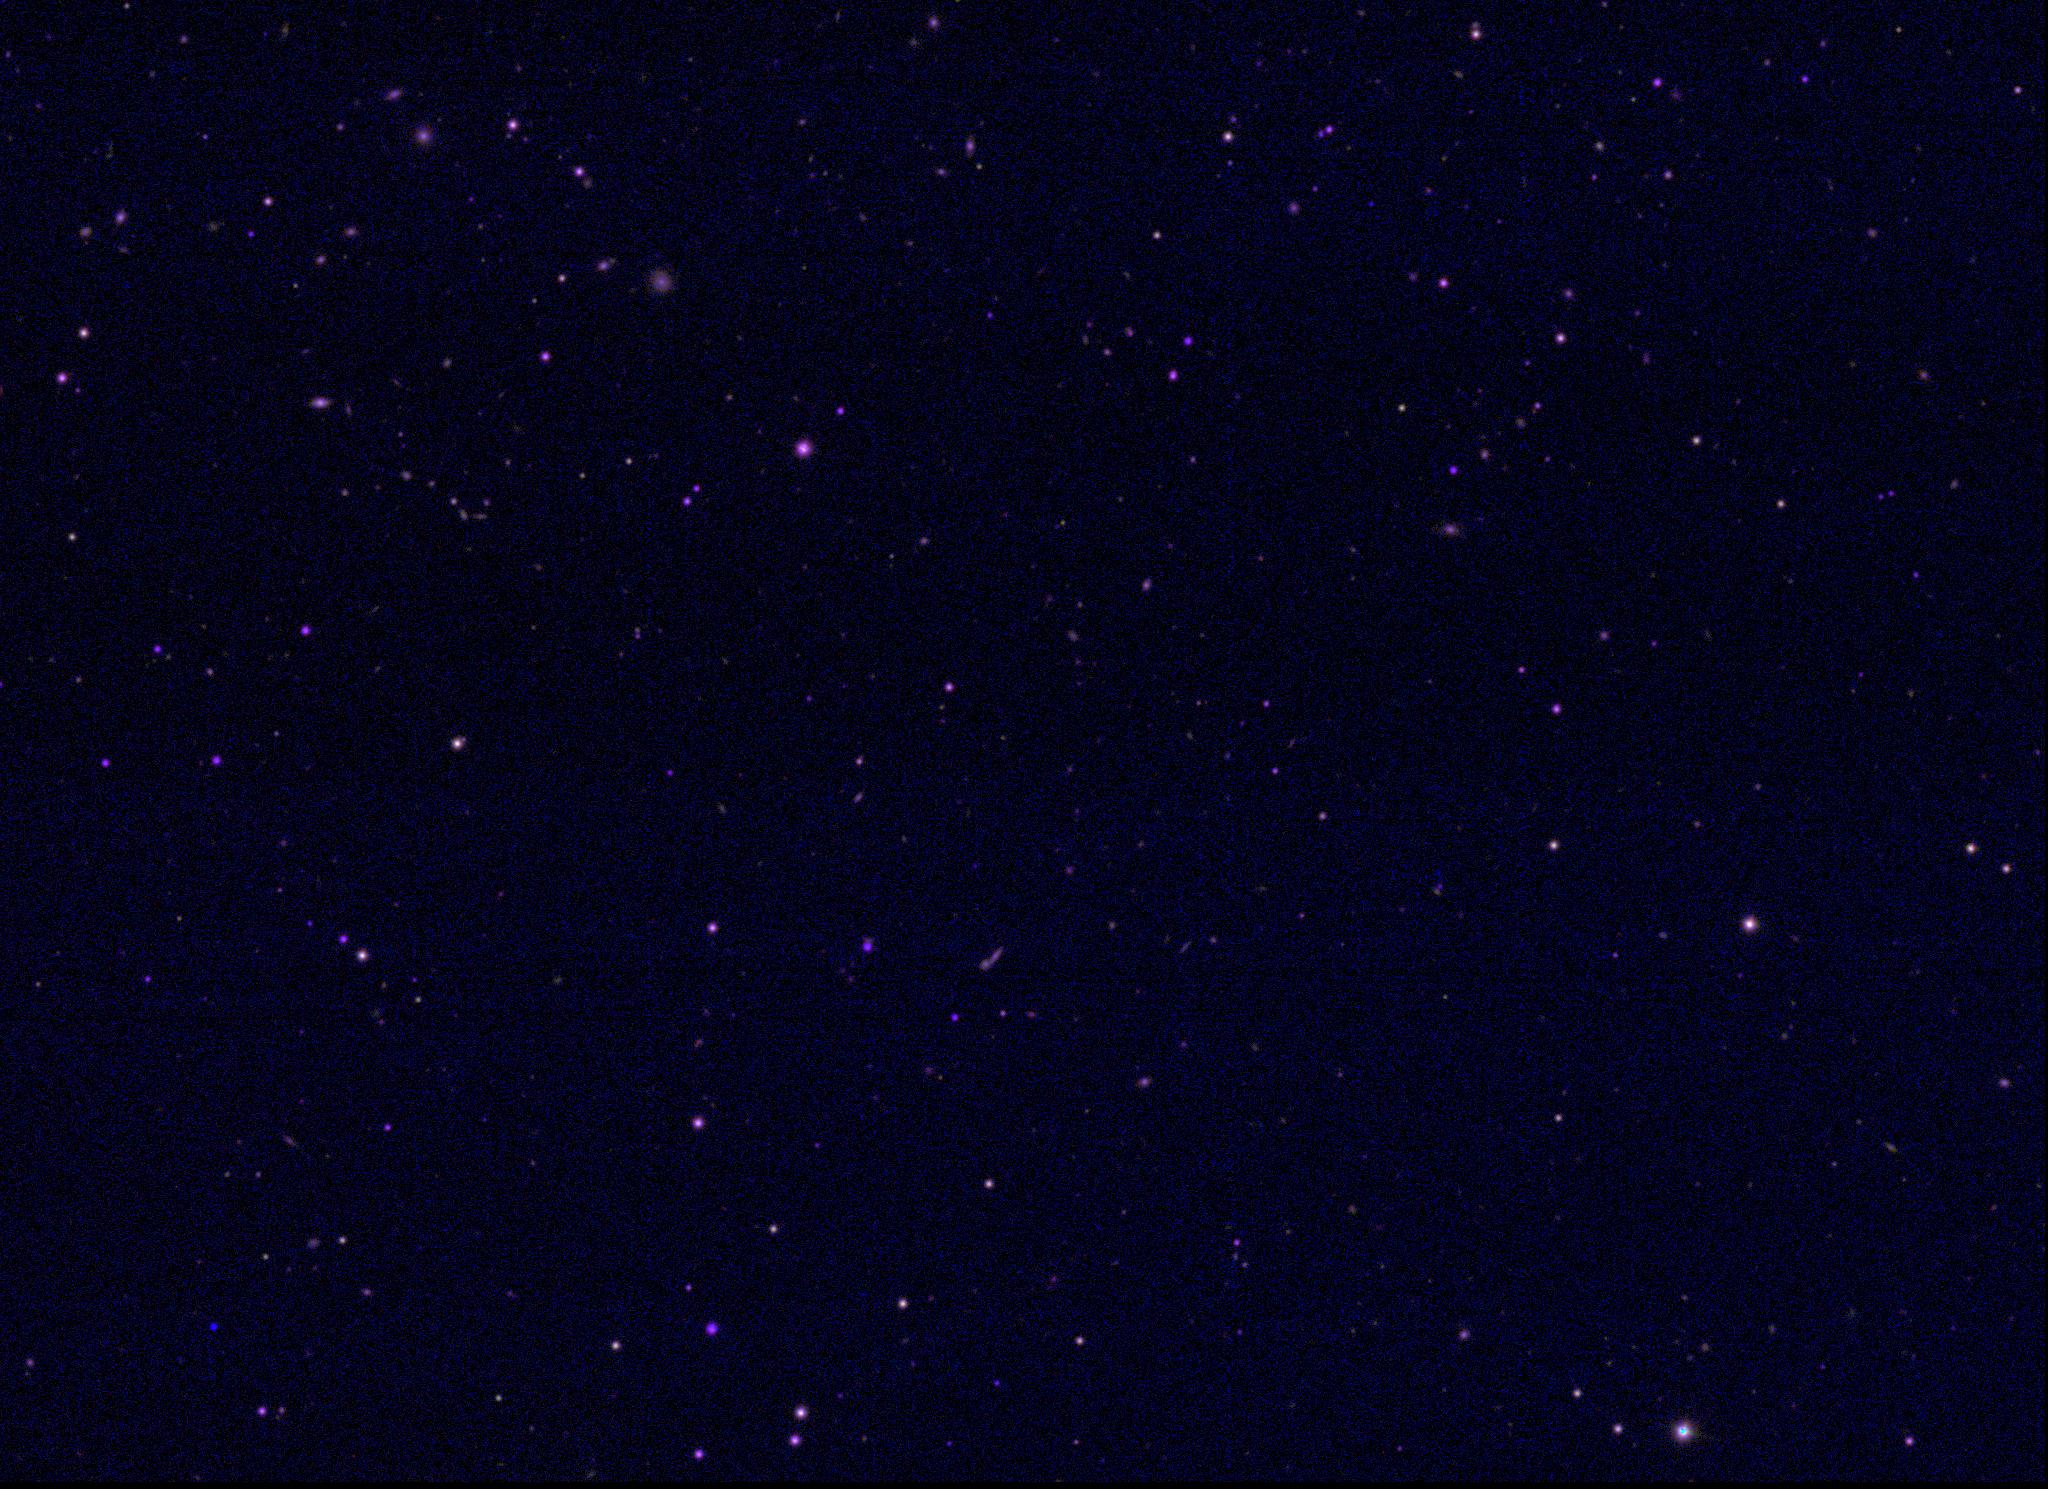L: (207, 1320, 221, 1335)
